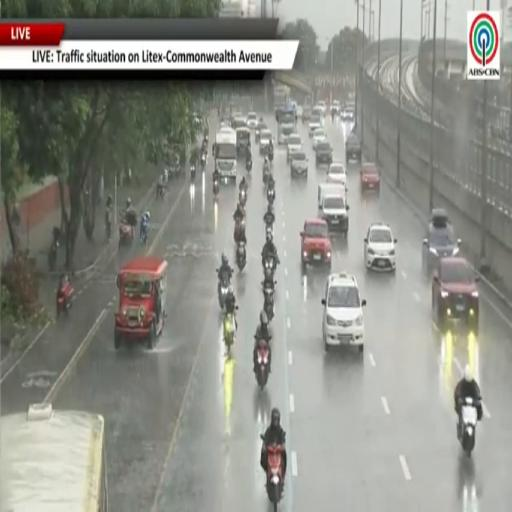bus: (0, 405, 108, 511), (215, 128, 236, 179)
car: (322, 272, 366, 353), (432, 256, 479, 330), (423, 208, 461, 274), (300, 218, 331, 268), (364, 223, 396, 271), (322, 195, 349, 236), (360, 163, 380, 193), (290, 151, 308, 177), (327, 163, 347, 186), (346, 134, 362, 162), (287, 133, 302, 162), (316, 139, 332, 165), (259, 130, 272, 154), (312, 127, 326, 149), (309, 114, 321, 137), (255, 121, 267, 142), (340, 106, 355, 122), (230, 111, 245, 124), (246, 112, 257, 129), (232, 118, 247, 130), (301, 106, 311, 123), (316, 101, 326, 116), (331, 101, 340, 115), (220, 120, 231, 131), (312, 106, 322, 117), (296, 106, 303, 118)
jeepney: (115, 256, 167, 349)
motorcycle: (266, 444, 284, 511), (458, 397, 477, 456), (255, 339, 270, 390), (57, 281, 74, 316), (262, 281, 276, 322), (216, 269, 230, 309), (224, 314, 235, 356), (119, 221, 134, 248), (48, 238, 59, 271), (236, 242, 246, 270), (234, 220, 245, 243), (264, 254, 275, 276), (105, 208, 112, 241), (140, 218, 148, 244), (239, 188, 247, 208), (263, 165, 270, 186), (157, 183, 166, 199), (267, 188, 275, 204), (213, 177, 219, 198), (265, 222, 273, 237), (201, 153, 206, 170), (191, 165, 196, 182), (246, 159, 252, 172), (268, 151, 273, 164)
truck: (277, 104, 296, 145), (274, 86, 290, 120)
